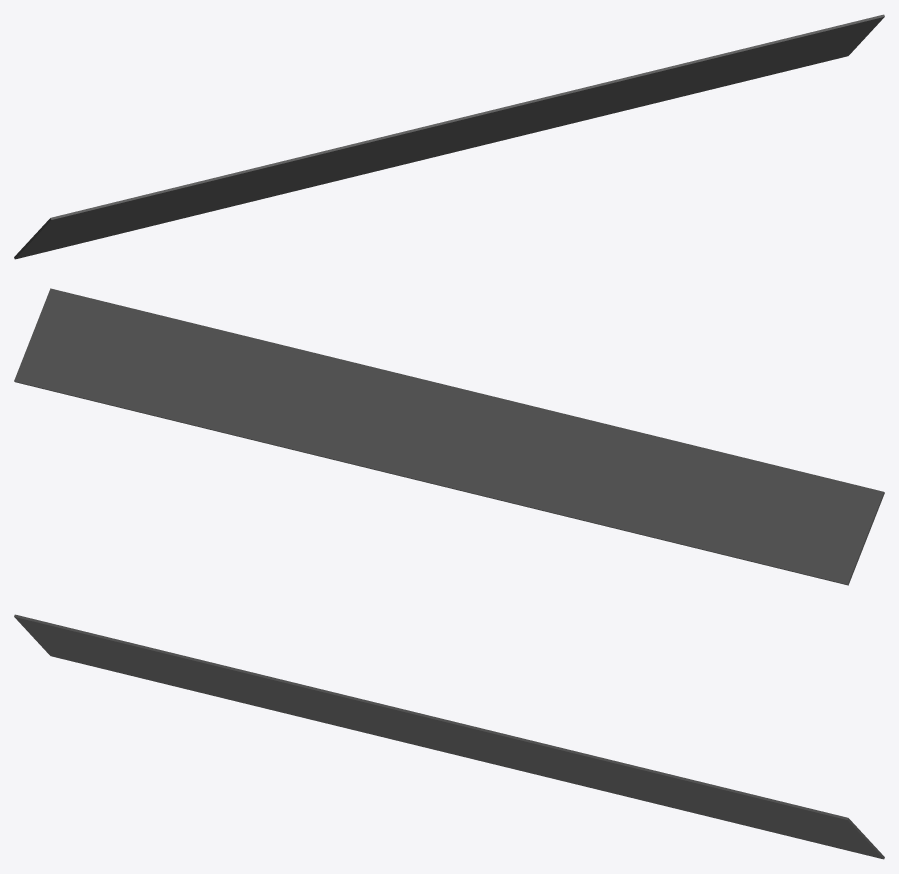
File: Itr_Airconditioner3_Wing1_03.FBX
The picture shows the model from 3 angles, top to bottom: view 1: azimuth 30°, elevation 25°; view 2: azimuth 150°, elevation 25°; view 3: azimuth 330°, elevation 25°; orthographic projection.
Visible parts, largest first — view 1: Itr_Airconditioner3_Wing1_03; view 2: Itr_Airconditioner3_Wing1_03; view 3: Itr_Airconditioner3_Wing1_03.
Part boxes in pixels (<box>): Itr_Airconditioner3_Wing1_03: <box>14,14,884,259</box>; Itr_Airconditioner3_Wing1_03: <box>14,288,884,585</box>; Itr_Airconditioner3_Wing1_03: <box>14,614,884,859</box>.
Size of the model in its own units: 51.51 by 4 by 4.
